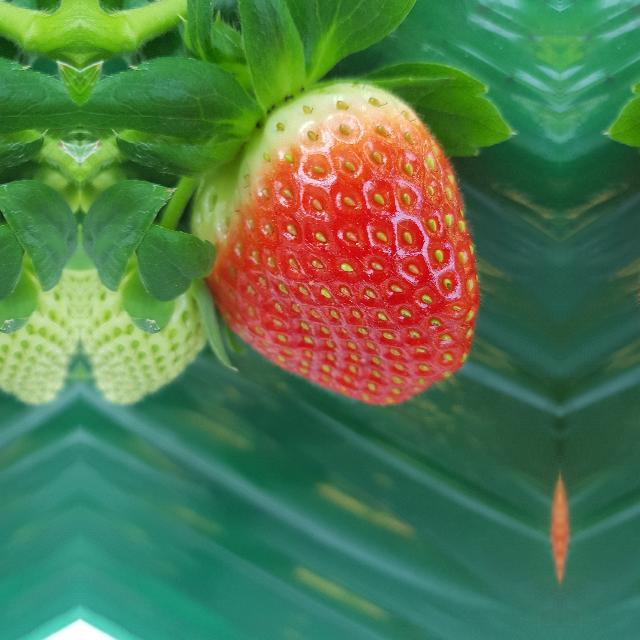Health_100: (188, 81, 482, 407)
Health_25: (80, 220, 208, 400), (0, 220, 80, 400)
